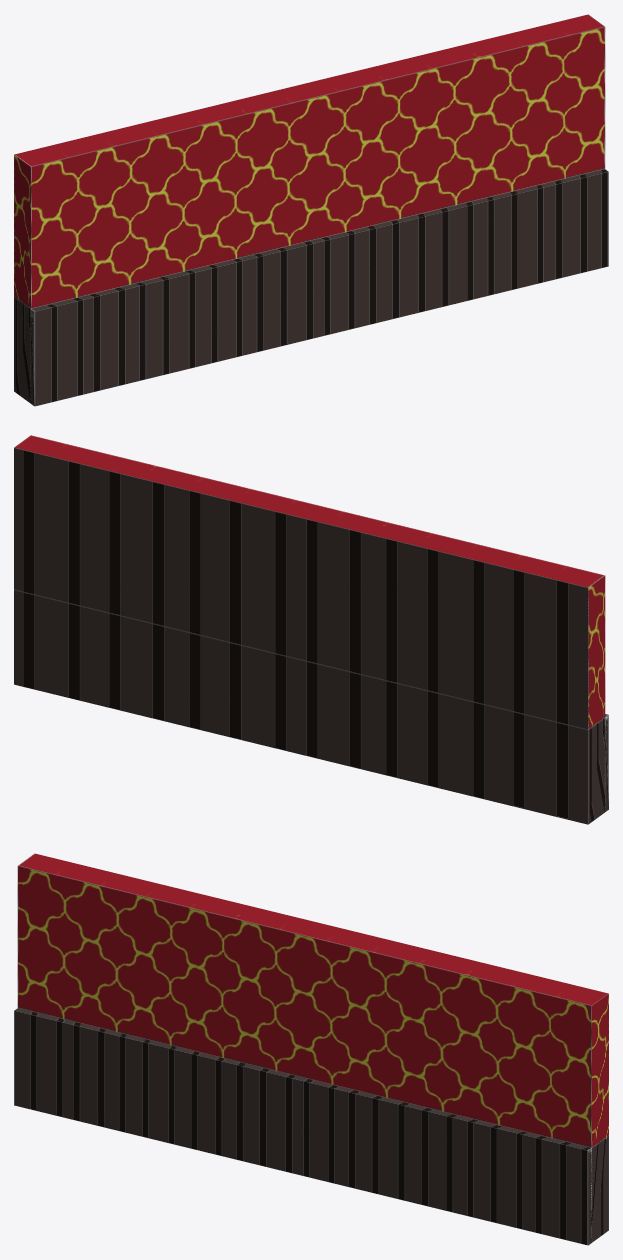
File: Bar_Wall_tex.fbx
3 views of the same model, one above another, from view 1: azimuth 30°, elevation 25°; view 2: azimuth 150°, elevation 25°; view 3: azimuth 330°, elevation 25° (orthographic).
Visible parts, largest first — view 1: Bar_Wall; view 2: Bar_Wall; view 3: Bar_Wall.
Part boxes in pixels (left/top/right/bottom): Bar_Wall: left=14, top=14, right=608, bottom=406; Bar_Wall: left=14, top=435, right=608, bottom=824; Bar_Wall: left=14, top=853, right=608, bottom=1245.
Bounding box in the file's own units: 1548 × 610 × 96.46.
1 material, 1 textured.
